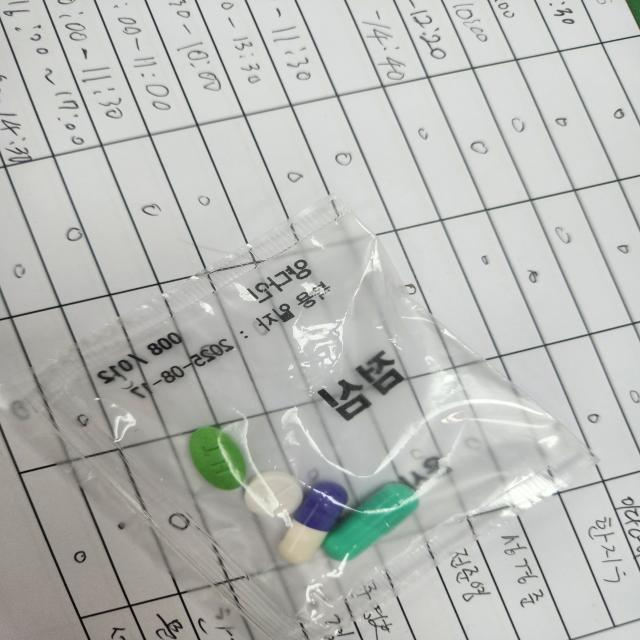러키펜정: (239, 469, 304, 518)
씨엠지세파클러캡슐: (279, 486, 349, 565)
에르도캡슐: (322, 482, 420, 565)
휴티렌정: (187, 425, 255, 493)
